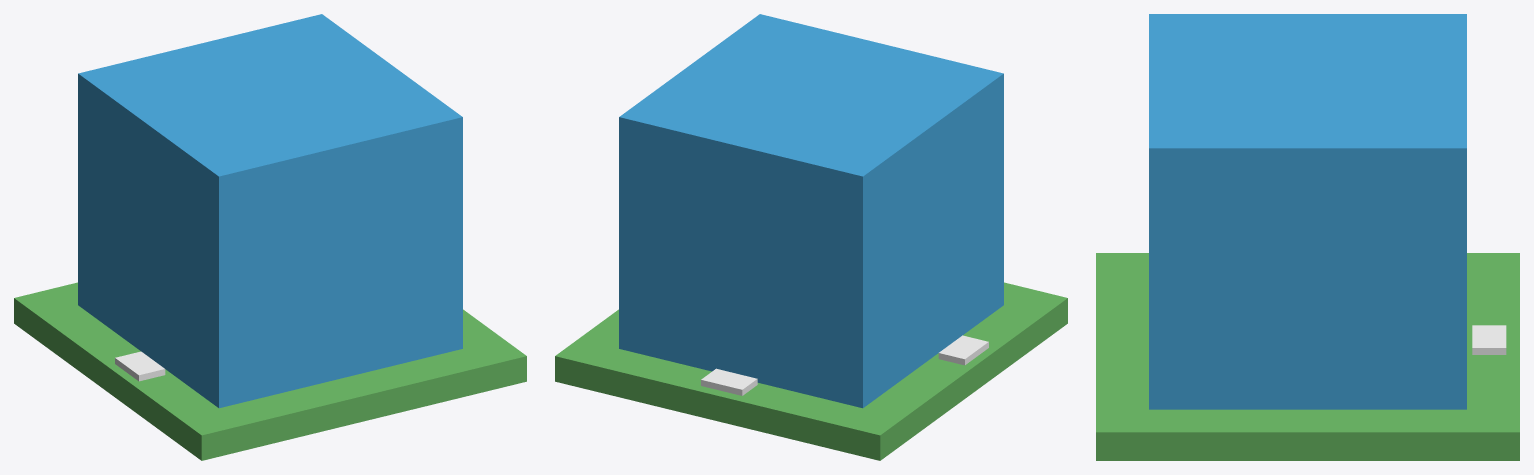
File: building3.fbx
3 views of the same model, side by side, from view 1: azimuth 30°, elevation 25°; view 2: azimuth 150°, elevation 25°; view 3: azimuth 270°, elevation 25° (orthographic). The views are drawn at different scales.
Visible parts, largest first — view 1: Empty_Tile.002, Empty_Tile.001, Empty_Tile.003; view 2: Empty_Tile.002, Empty_Tile.001, Empty_Tile.004, Empty_Tile.003; view 3: Empty_Tile.002, Empty_Tile.001, Empty_Tile.004.
Boxes of the visible parts, x1,y1,x2,y2 form: Empty_Tile.002: [78, 14, 462, 408]; Empty_Tile.001: [14, 282, 526, 460]; Empty_Tile.003: [115, 351, 165, 381]; Empty_Tile.002: [619, 14, 1003, 408]; Empty_Tile.001: [555, 282, 1067, 460]; Empty_Tile.004: [701, 368, 757, 395]; Empty_Tile.003: [938, 335, 988, 365]; Empty_Tile.002: [1149, 14, 1466, 409]; Empty_Tile.001: [1096, 253, 1519, 460]; Empty_Tile.004: [1472, 325, 1506, 354].
Bounding box in the file's own units: 800 × 605 × 800.
